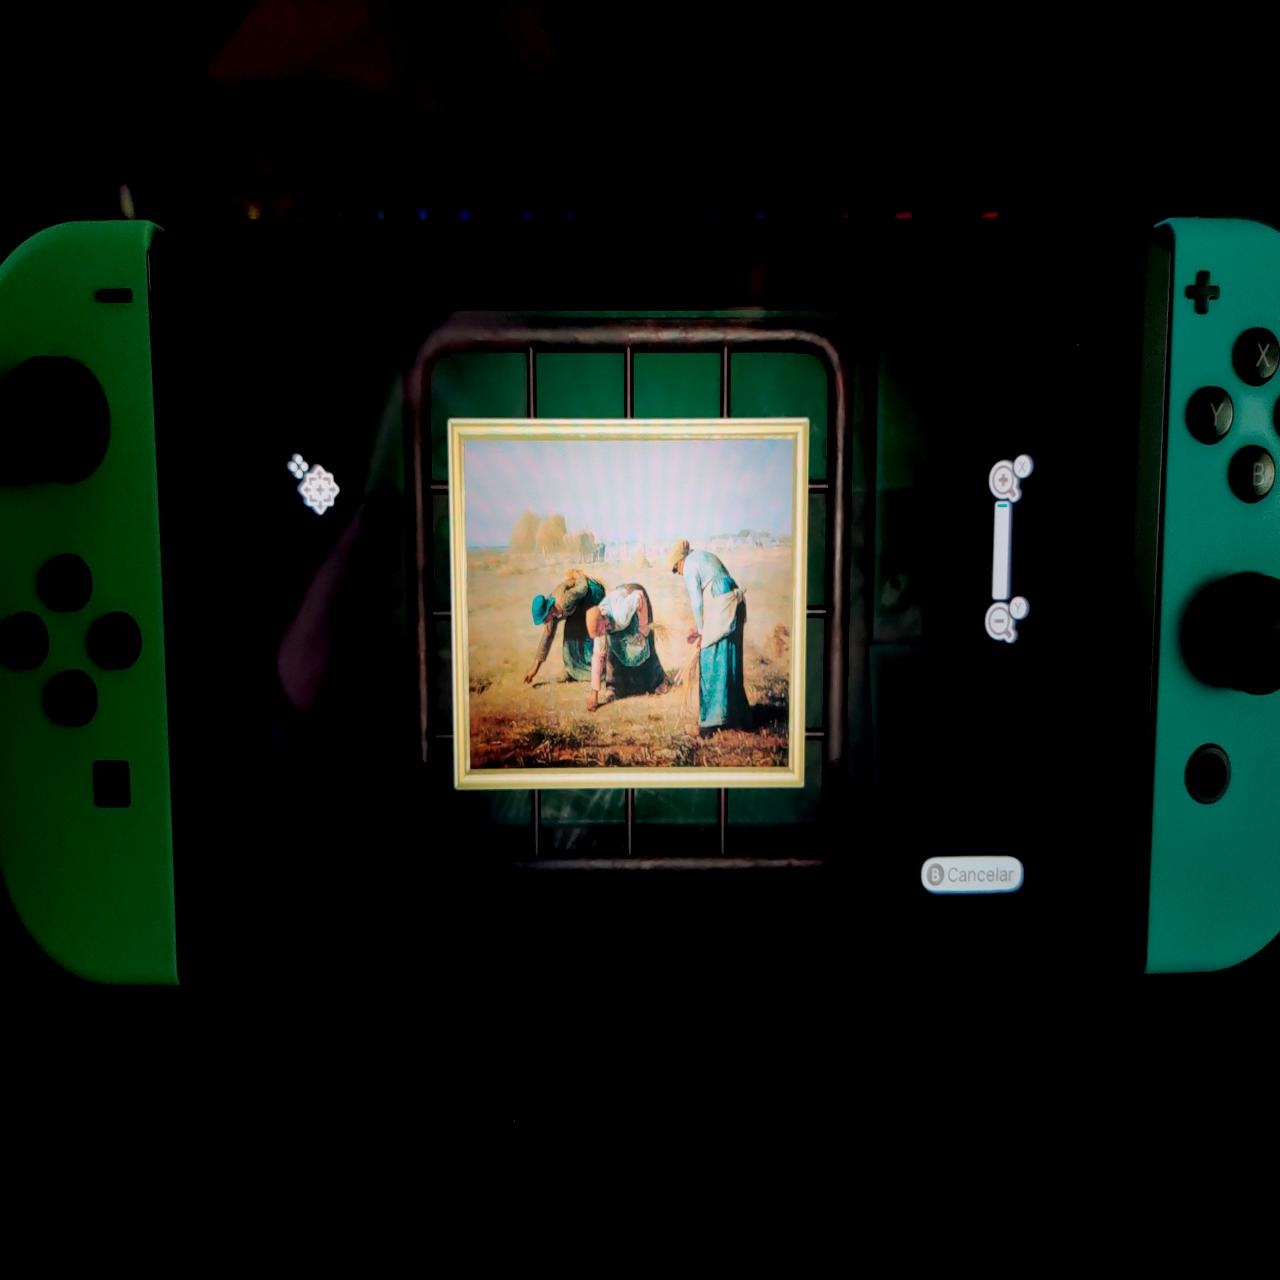Gleaners: (462, 436, 794, 772)
